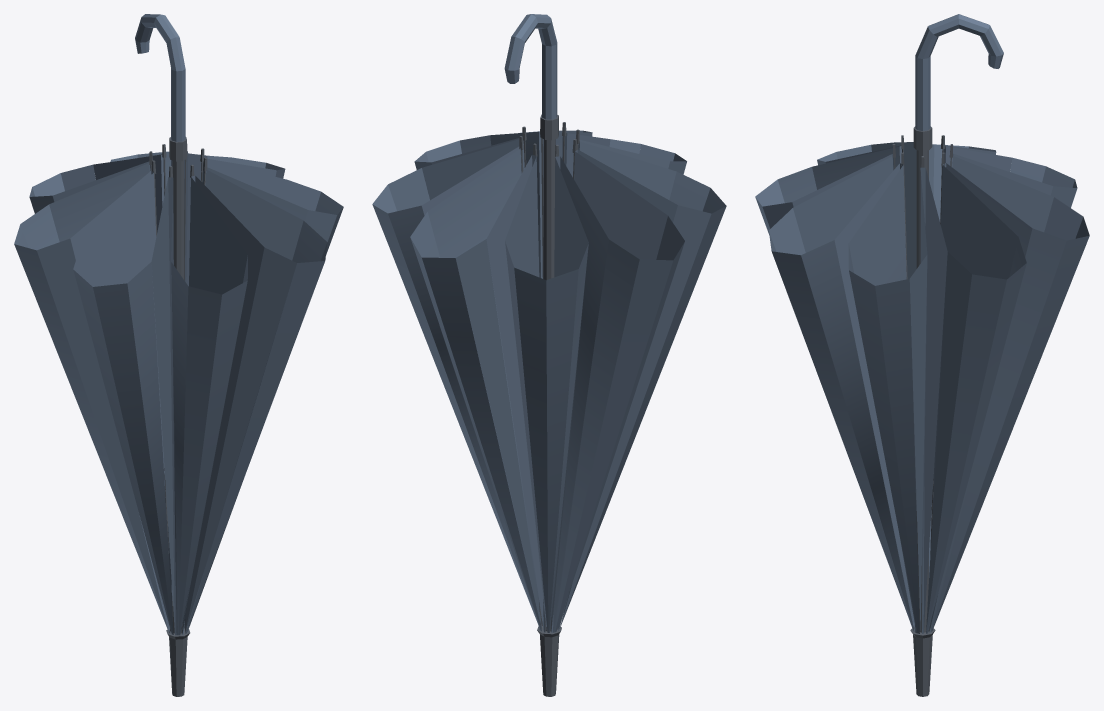
Rendered from umbrella.dae.
3 renders of one model, left to right at view 1: azimuth 30°, elevation 25°; view 2: azimuth 150°, elevation 25°; view 3: azimuth 270°, elevation 25°, orthographic. The views are drawn at different scales.
Visible parts, largest first — view 1: umbrella; view 2: umbrella; view 3: umbrella.
Boxes of the visible parts, box(x1,y1,x2,y2) form: umbrella: box(14, 14, 343, 696); umbrella: box(372, 14, 726, 696); umbrella: box(755, 14, 1089, 696).
Bounding box in the file's own units: 0.4007 × 0.4015 × 0.9.
